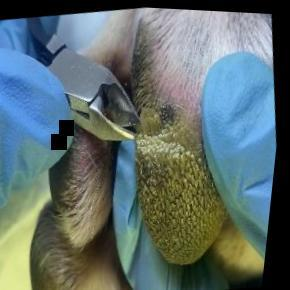keratosis: (123, 89, 255, 273)
